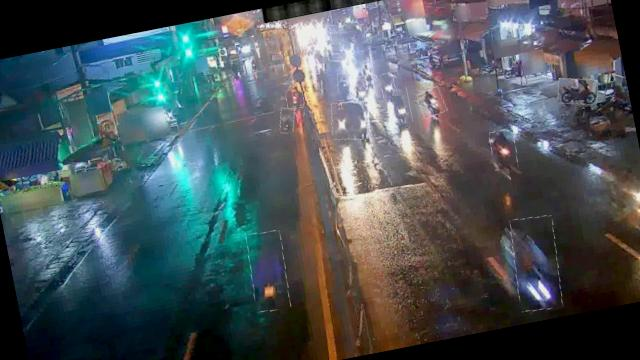Bike: (505, 213, 567, 314), (244, 229, 294, 314), (555, 74, 601, 108), (488, 128, 520, 171), (388, 86, 412, 125), (416, 87, 446, 118), (282, 80, 305, 110), (277, 106, 297, 134), (335, 72, 354, 101), (379, 72, 397, 98), (353, 75, 370, 102), (362, 60, 376, 82), (395, 131, 397, 132)
Car: (328, 97, 374, 143)
